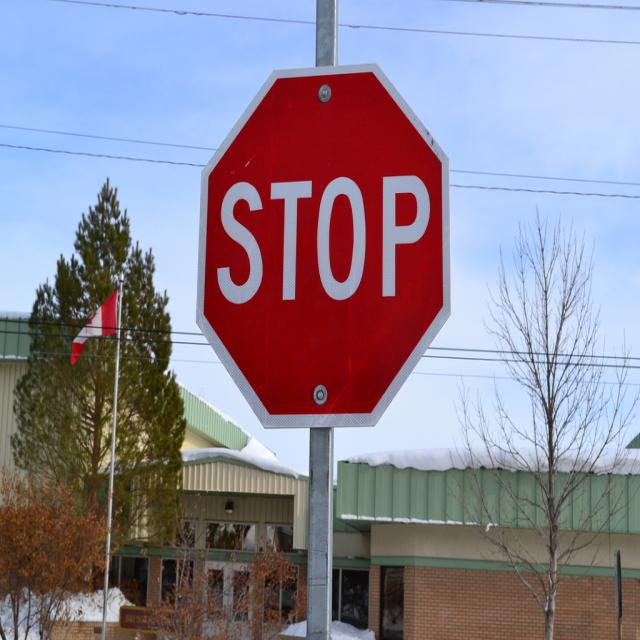Stop-sign: (193, 60, 452, 428)
